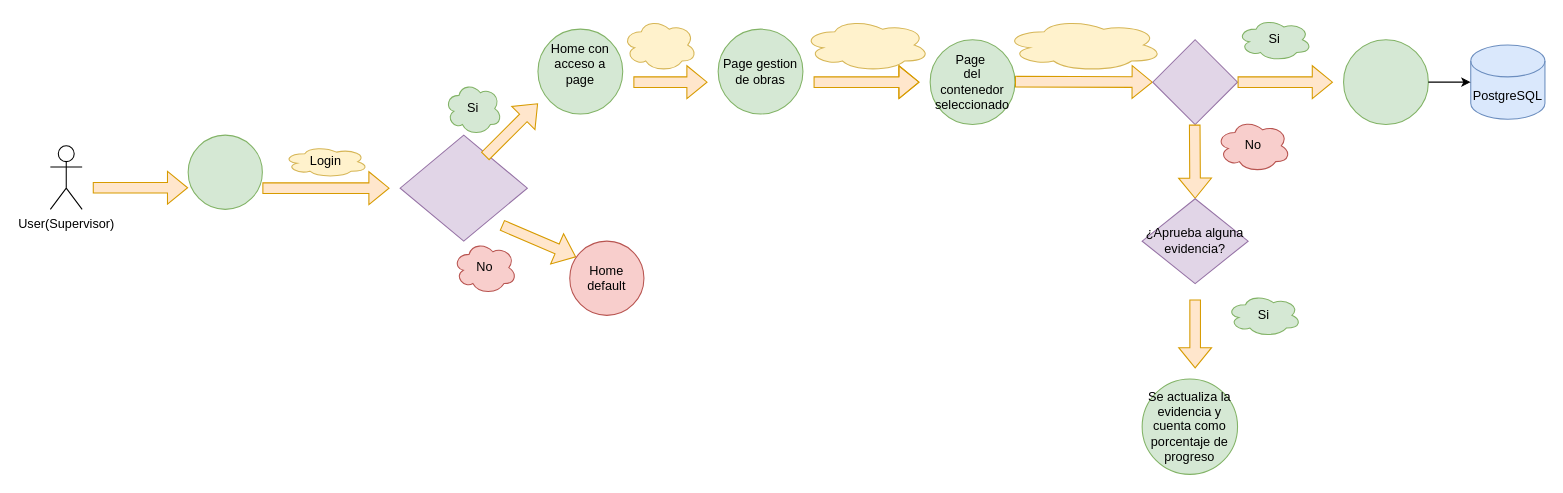
Image size: 1563x493. Some labels were removed from this diagram. Here are the shapes that lost their labels. From the top down, the centre of each, then its label:
the point at 659,44: Ingreso a page
the point at 866,44: Acceso a contenedores del supervisor
the point at 1083,44: Hace click en actualizar progreso
the point at 1195,82: ¿Sube evidencia?
the point at 1385,82: Se hace peticion a la API para agregarla a la db
the point at 224,171: Ingreso a la plataforma
the point at 463,187: ¿User tiene rol de supervisor? (Validacion de rol dentro de token)
